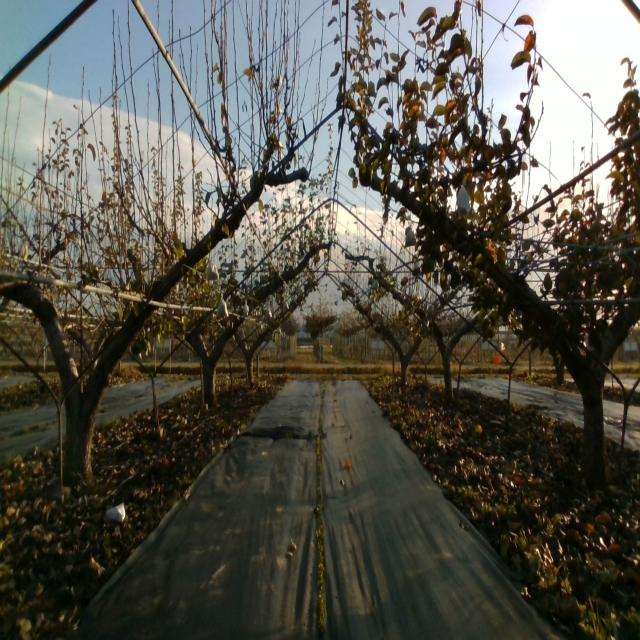pearbags: (456, 182, 472, 217), (206, 258, 219, 281), (403, 228, 417, 249), (216, 294, 228, 318)
